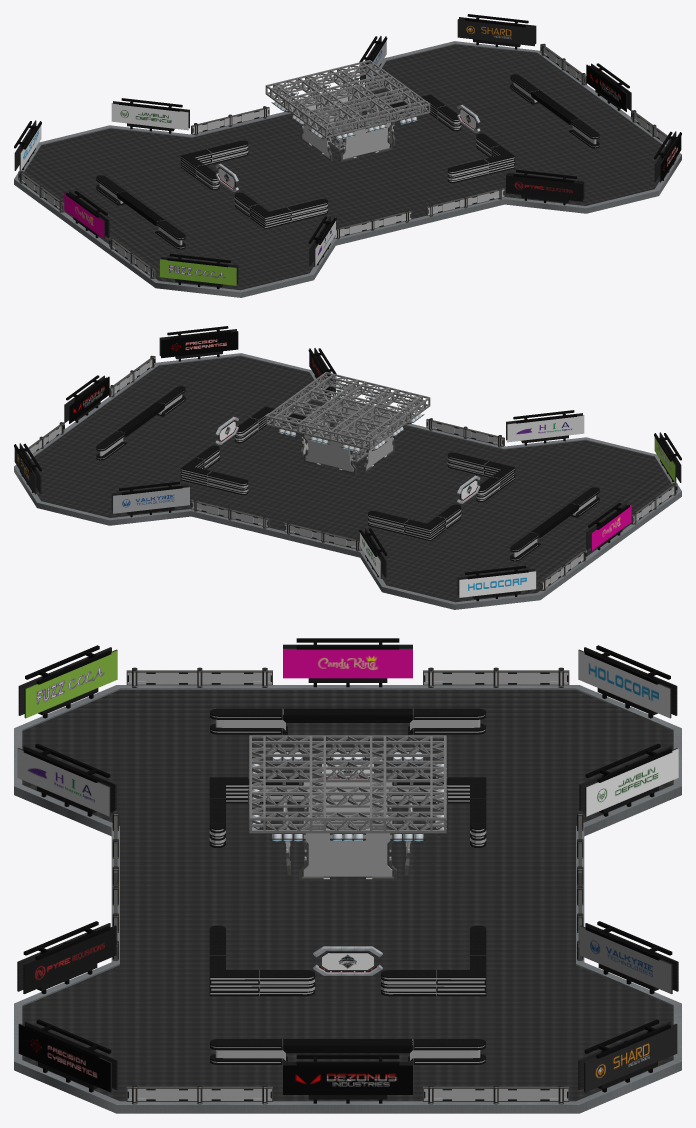
The model's file is arena_r10.fbx.
3 renders of one model, top to bottom at view 1: azimuth 30°, elevation 25°; view 2: azimuth 150°, elevation 25°; view 3: azimuth 270°, elevation 25°, orthographic. The views are drawn at different scales.
Parts seen in each view (by area): view 1: floor_low1, floor_guard, wire_panel, billboard8, billboard2, billboard5, billboard7, angle_wall1, angle_wall3, angle_wall, long_glass_wall, long_glass_wall1 (+15 smaller); view 2: floor_low1, floor_guard, wire_panel, billboard6, billboard4, billboard3, billboard9, angle_wall, angle_wall2, angle_wall1, long_glass_wall, long_glass_wall1 (+15 smaller); view 3: floor_low1, floor_guard, wire_panel, long_glass_wall, long_glass_wall1, billboard, billboard1, billboard7, billboard9, billboard2, billboard4, billboard3 (+14 smaller).
Boxes of the visible parts, <box> form: floor_low1: <box>23,44,664,290</box>; floor_guard: <box>14,41,681,297</box>; wire_panel: <box>265,60,430,150</box>; billboard8: <box>457,14,536,49</box>; billboard2: <box>159,253,238,289</box>; billboard5: <box>111,98,189,133</box>; billboard7: <box>506,169,584,205</box>; angle_wall1: <box>234,192,327,229</box>; angle_wall3: <box>447,133,515,182</box>; angle_wall: <box>180,140,248,189</box>; long_glass_wall: <box>96,175,185,249</box>; long_glass_wall1: <box>510,74,599,148</box>; floor_low1: <box>31,356,672,602</box>; floor_guard: <box>14,353,681,609</box>; wire_panel: <box>265,372,430,462</box>; billboard6: <box>159,326,238,361</box>; billboard4: <box>457,565,536,601</box>; billboard3: <box>506,410,584,445</box>; billboard9: <box>111,481,189,517</box>; angle_wall: <box>368,504,461,541</box>; angle_wall2: <box>180,445,248,494</box>; angle_wall1: <box>447,452,515,501</box>; long_glass_wall: <box>510,487,599,561</box>; long_glass_wall1: <box>96,386,185,460</box>; floor_low1: <box>22,690,673,1101</box>; floor_guard: <box>14,685,681,1113</box>; wire_panel: <box>249,735,446,833</box>; long_glass_wall: <box>210,708,485,734</box>; long_glass_wall1: <box>210,1039,485,1064</box>; billboard: <box>283,638,412,687</box>; billboard1: <box>283,1054,412,1103</box>; billboard7: <box>17,921,116,993</box>; billboard9: <box>579,921,678,993</box>; billboard2: <box>18,645,117,718</box>; billboard4: <box>578,645,677,718</box>; billboard3: <box>17,743,116,816</box>.
Size of the model in its own units: 30862 by 4300 by 20512.
